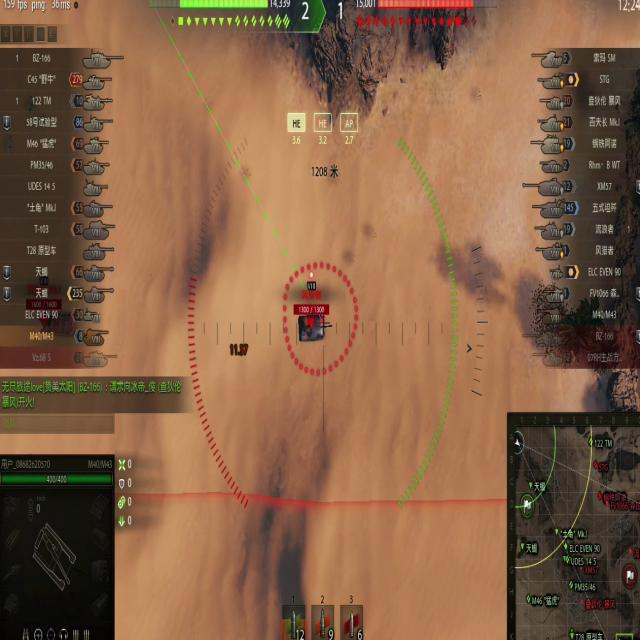tank: (292, 301, 331, 348)
